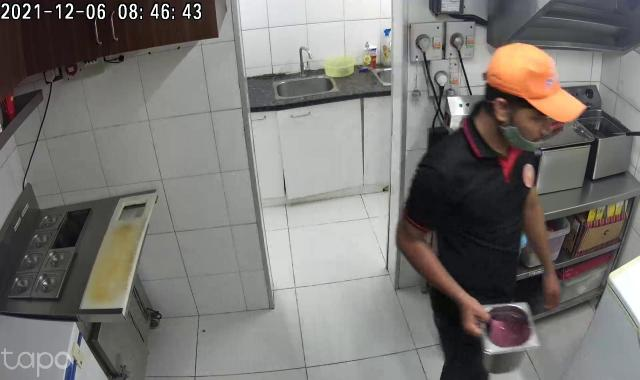no_hairnet: (481, 40, 590, 133)
